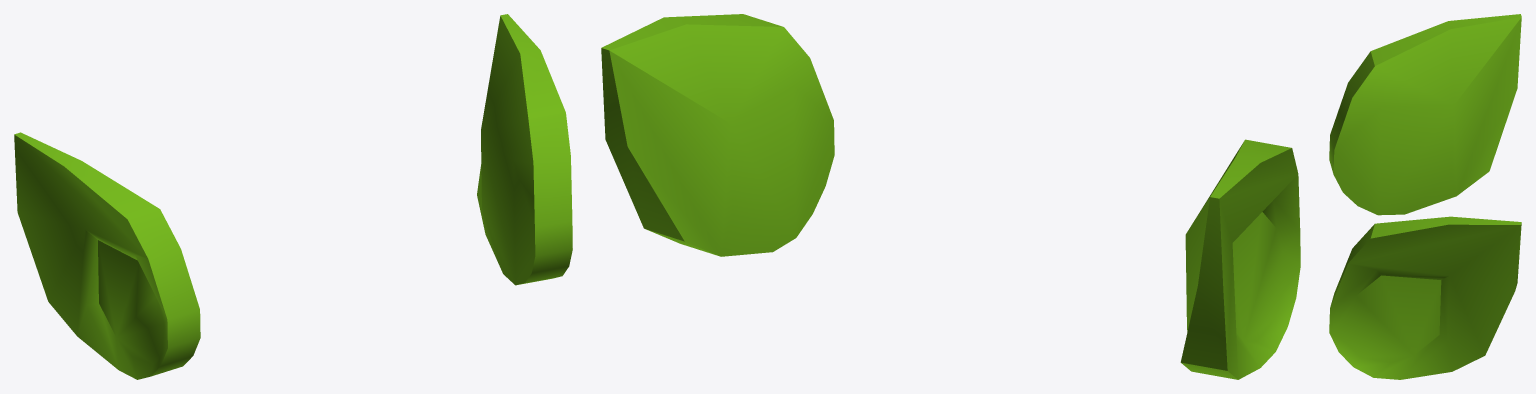
The model's file is Orelles Punxegudes.fbx.
3 renders of one model, left to right at view 1: azimuth 30°, elevation 25°; view 2: azimuth 150°, elevation 25°; view 3: azimuth 270°, elevation 25°, orthographic. The views are drawn at different scales.
Parts seen in each view (by area): view 1: Cube.001; view 2: Cube.001; view 3: Cube.001.
Boxes of the visible parts, box(x1,y1,x2,y2) form: Cube.001: box(14, 14, 572, 379); Cube.001: box(601, 14, 1300, 379); Cube.001: box(1329, 14, 1521, 379).
Bounding box in the file's own units: 2.52 × 0.9465 × 0.9699.
